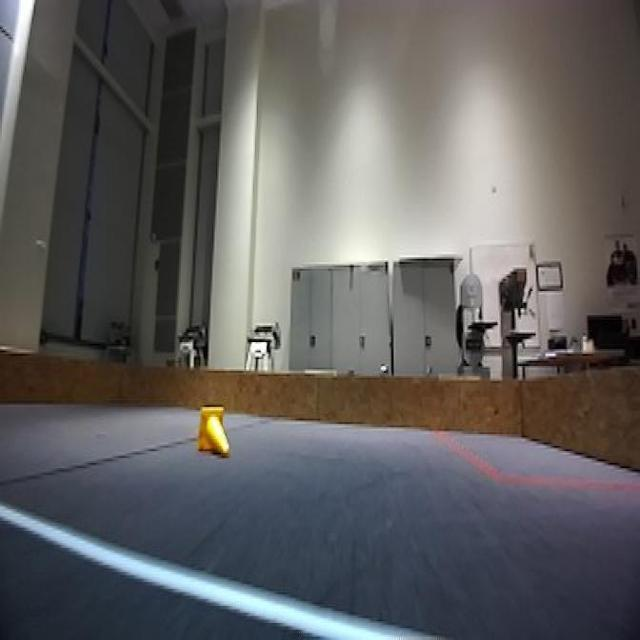frc_cone: (193, 402, 230, 461)
